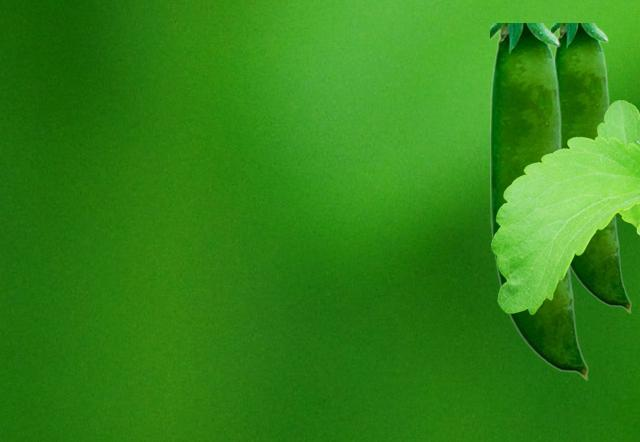pea: (490, 23, 587, 379), (551, 23, 630, 312)
